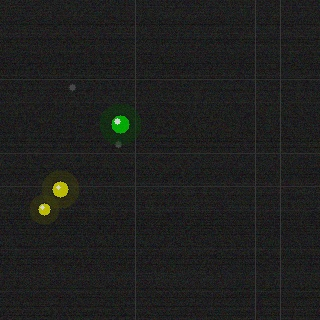green_normal: (109, 113, 131, 135)
yellow_warning: (50, 179, 70, 199), (36, 201, 52, 217)
